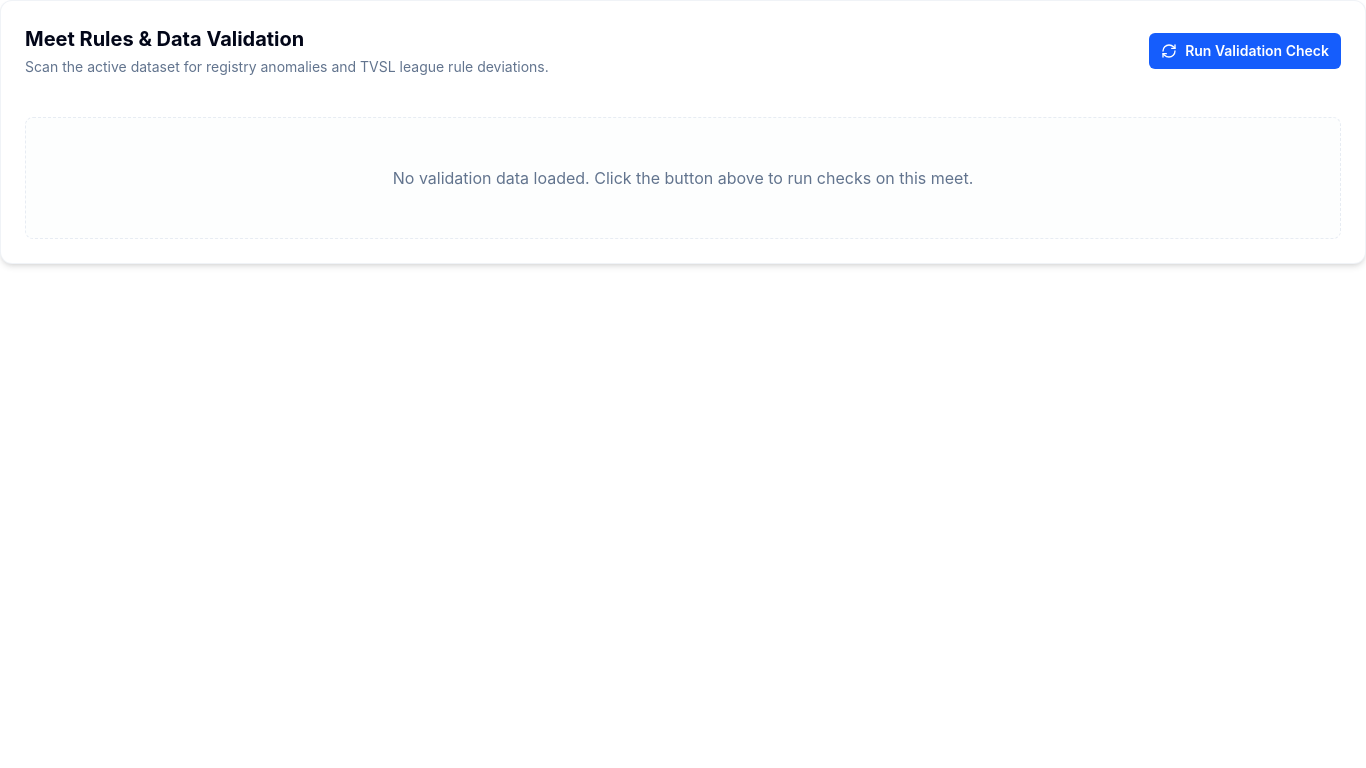
Test: MeetValidation › runs validation and displays findings with category and severity filters
This screenshot has width=1366, height=768.
Step 1. Click the button "Run Validation Check" → (1245, 51), box x1=1149 y1=33 x2=1341 y2=69
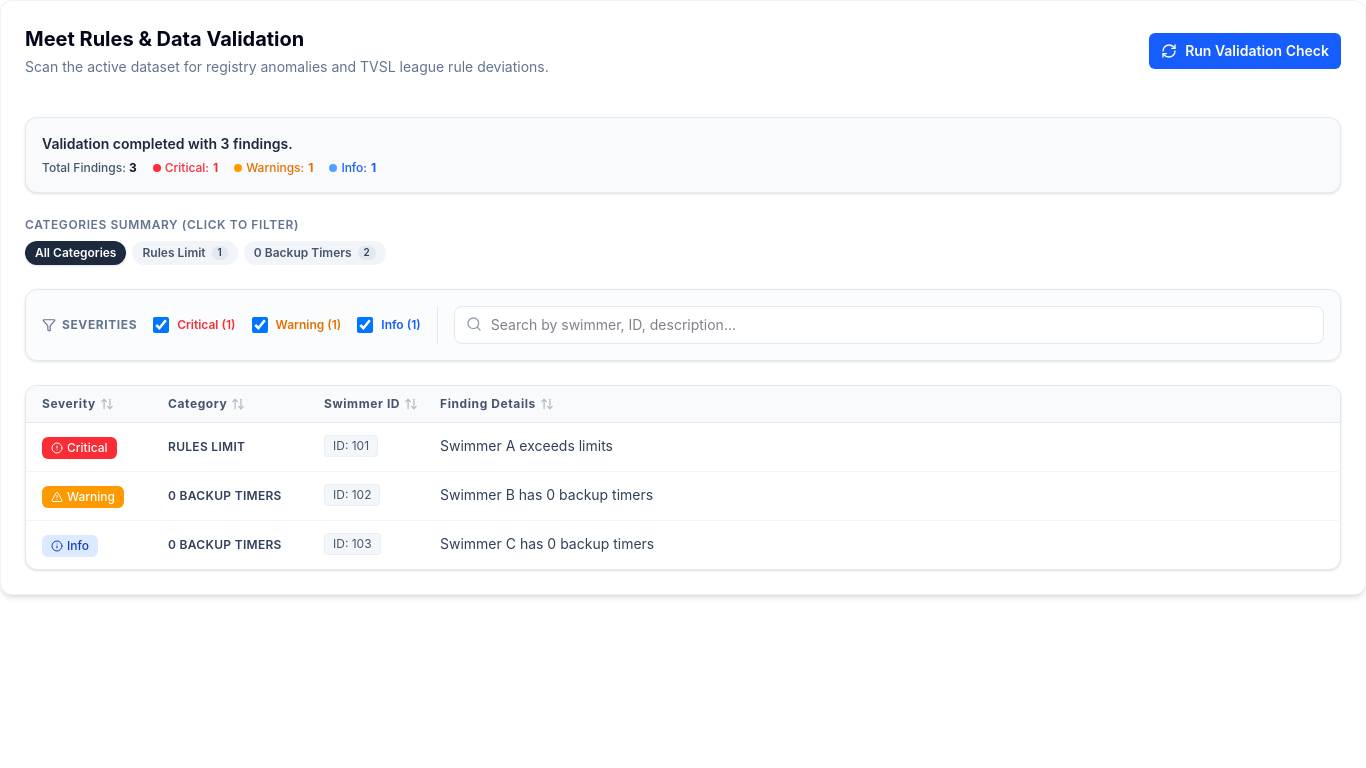
expect the text "Validation completed with 3 findings." is shown: met, box x1=42 y1=135 x2=293 y2=152
expect the text "Critical (1)" is shown: met, box x1=177 y1=317 x2=236 y2=333
expect the text "Warning (1)" is shown: met, box x1=276 y1=317 x2=341 y2=333
